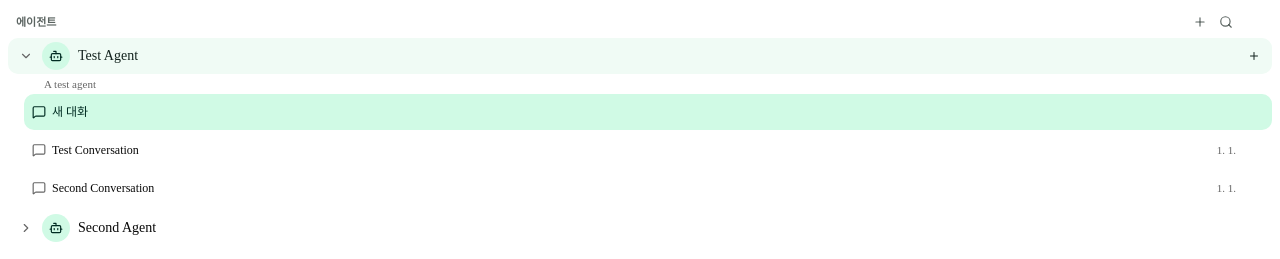
Test: ChatNavigator › collapses and re-expands the active agent group via the toggle
The image size is (1280, 259).
Expected: the text "Test Conversation" is shown, [52,142,139,158]
Click the button named "에이전트 접기".
click(26, 56)  # box [14,44,38,68]
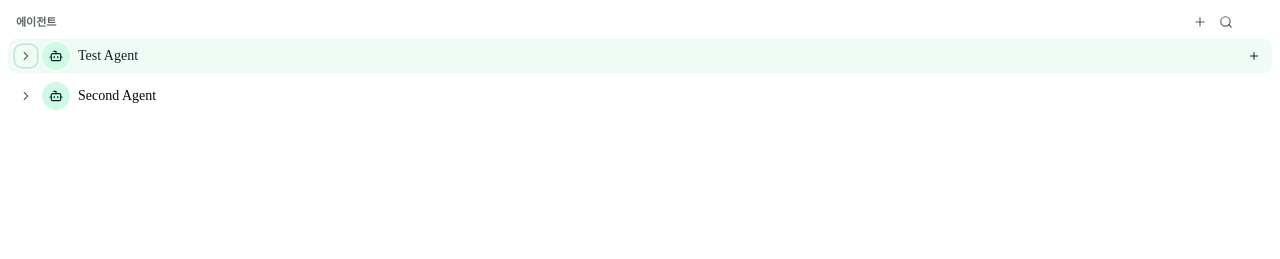
Result: the button named "에이전트 접기" next to "Test Agent" is collapsed
Result: the link "Test Conversation" is gone
Click the button named "에이전트 접기" next to "Test Agent".
click(26, 56)  # box [14,44,38,68]
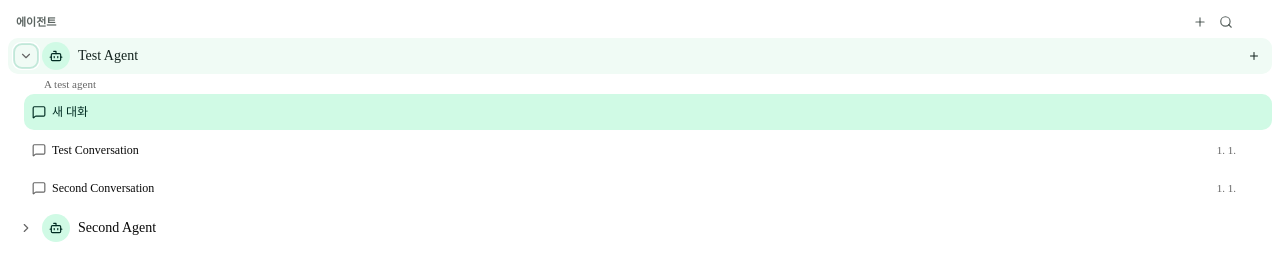
Result: the button named "에이전트 접기" is expanded at [14,44,38,68]
Result: the text "Test Conversation" is shown at [52,142,139,158]
